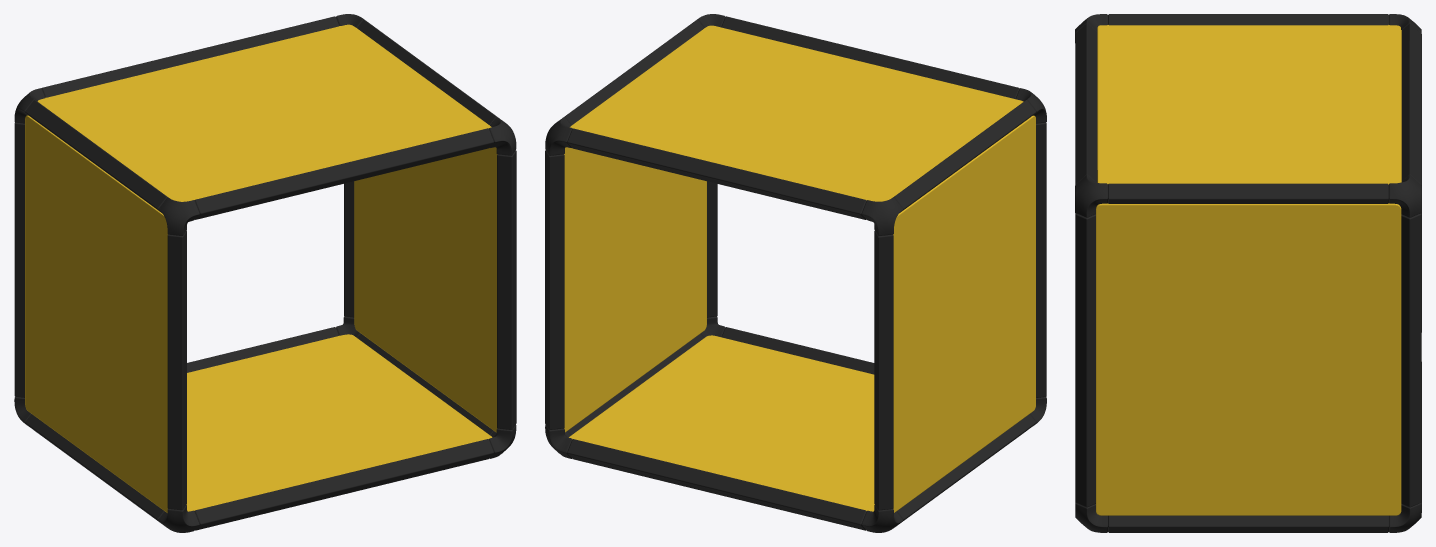
3 renders of one model, left to right at view 1: azimuth 30°, elevation 25°; view 2: azimuth 150°, elevation 25°; view 3: azimuth 270°, elevation 25°, orthographic. The views are drawn at different scales.
Visible parts, largest first — view 1: 420x329x374; view 2: 420x329x374; view 3: 420x329x374.
Part boxes in pixels (x1=…): 420x329x374: x1=14, y1=14, x2=516, y2=532; 420x329x374: x1=545, y1=14, x2=1046, y2=532; 420x329x374: x1=1075, y1=14, x2=1421, y2=532.
Bounding box in the file's own units: 0.4977 × 0.4518 × 0.4063.
